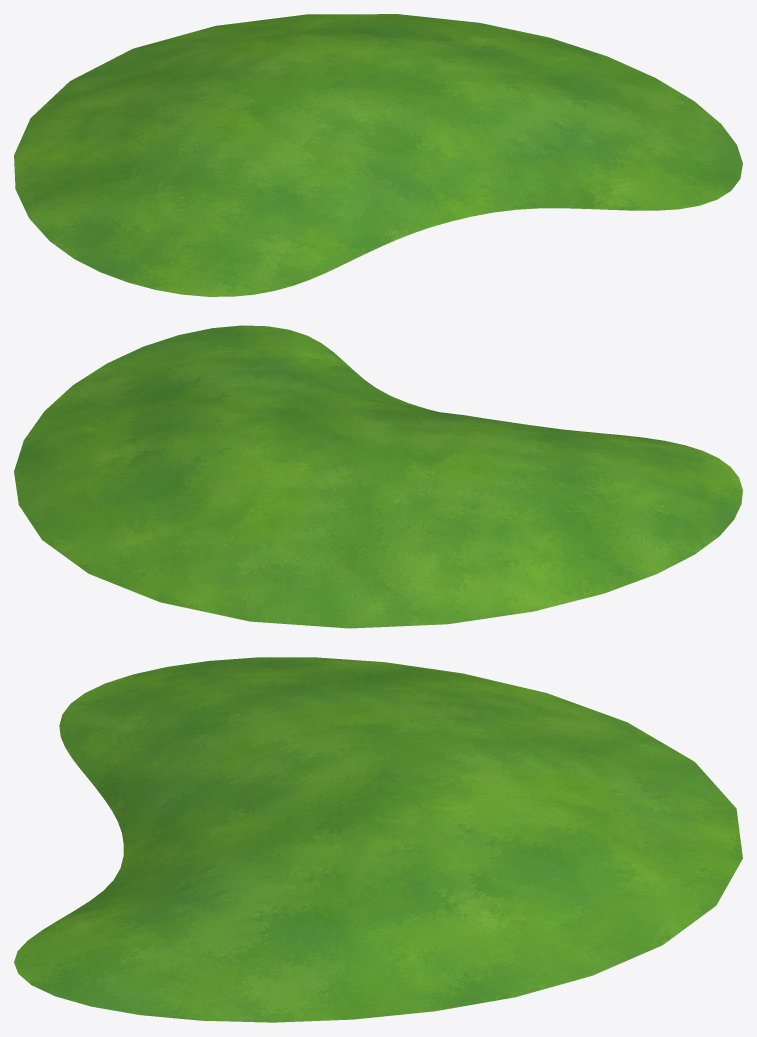
The model's file is Forest_Ground_05.fbx.
3 views of the same model, one above another, from view 1: azimuth 30°, elevation 25°; view 2: azimuth 150°, elevation 25°; view 3: azimuth 270°, elevation 25° (orthographic). The views are drawn at different scales.
Visible parts, largest first — view 1: Forest_Ground_05; view 2: Forest_Ground_05; view 3: Forest_Ground_05.
Part boxes in pixels (x1,y1,x2,y2): Forest_Ground_05: (14,14,742,296); Forest_Ground_05: (14,325,742,628); Forest_Ground_05: (14,657,742,1022).
Size of the model in its own units: 1656 by 1397 by 147.
